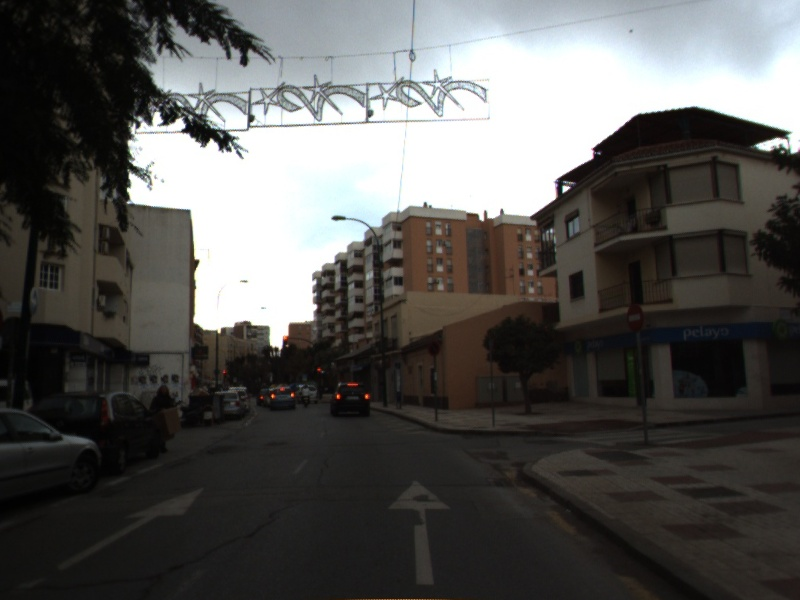STRAIGHT: (52, 482, 209, 575), (384, 477, 456, 589)
